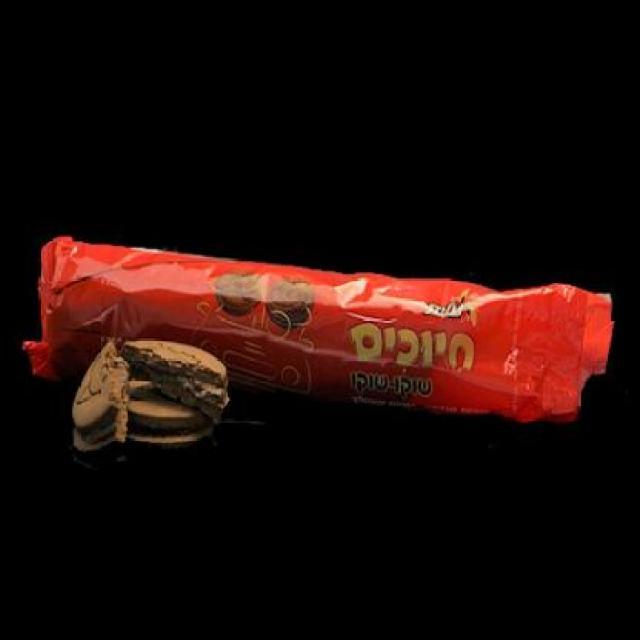Merendine packaged: (33, 230, 604, 408)
